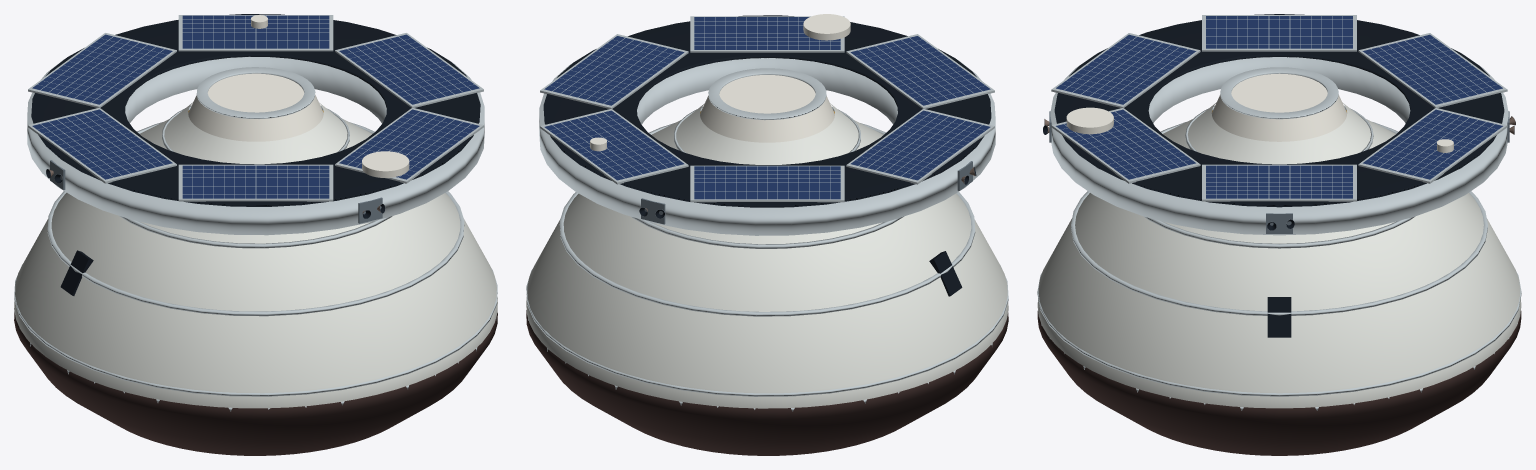
File: msl_ship.glb
3 views of the same model, side by side, from view 1: azimuth 30°, elevation 25°; view 2: azimuth 150°, elevation 25°; view 3: azimuth 270°, elevation 25° (orthographic).
Visible parts, largest first — view 1: mars_backshell.mesh_Pale_thermal_blanket, mars_cruise_stage.mesh_Satin_aluminum, mars_heatshield.mesh_Ablative_thermal_protection, mars_cruise_stage.mesh_Shadowed_interior, mars_backshell.mesh_Satin_aluminum, mars_backshell.parachute_cover.mesh_Warm_white_enamel, mars_cruise_stage.solar_panel_06.mesh_Indigo_solar_cells, mars_cruise_stage.solar_panel_02.mesh_Indigo_solar_cells, mars_cruise_stage.solar_panel_04.mesh_Indigo_solar_cells, mars_cruise_stage.solar_panel_05.mesh_Indigo_solar_cells, mars_cruise_stage.solar_panel_03.mesh_Indigo_solar_cells, mars_cruise_stage.solar_panel_01.mesh_Indigo_solar_cells (+9 smaller); view 2: mars_backshell.mesh_Pale_thermal_blanket, mars_cruise_stage.mesh_Satin_aluminum, mars_heatshield.mesh_Ablative_thermal_protection, mars_cruise_stage.mesh_Shadowed_interior, mars_backshell.mesh_Satin_aluminum, mars_backshell.parachute_cover.mesh_Warm_white_enamel, mars_cruise_stage.solar_panel_04.mesh_Indigo_solar_cells, mars_cruise_stage.solar_panel_02.mesh_Indigo_solar_cells, mars_cruise_stage.solar_panel_06.mesh_Indigo_solar_cells, mars_cruise_stage.solar_panel_05.mesh_Indigo_solar_cells, mars_cruise_stage.solar_panel_03.mesh_Indigo_solar_cells, mars_cruise_stage.solar_panel_01.mesh_Indigo_solar_cells (+9 smaller); view 3: mars_backshell.mesh_Pale_thermal_blanket, mars_cruise_stage.mesh_Satin_aluminum, mars_heatshield.mesh_Ablative_thermal_protection, mars_cruise_stage.mesh_Shadowed_interior, mars_backshell.mesh_Satin_aluminum, mars_backshell.parachute_cover.mesh_Warm_white_enamel, mars_cruise_stage.solar_panel_02.mesh_Indigo_solar_cells, mars_cruise_stage.solar_panel_04.mesh_Indigo_solar_cells, mars_cruise_stage.solar_panel_06.mesh_Indigo_solar_cells, mars_cruise_stage.solar_panel_05.mesh_Indigo_solar_cells, mars_cruise_stage.solar_panel_03.mesh_Indigo_solar_cells, mars_cruise_stage.solar_panel_01.mesh_Indigo_solar_cells (+10 smaller).
Boxes of the visible parts, left/top/right/bottom form: mars_backshell.mesh_Pale_thermal_blanket: left=14, top=102, right=497, bottom=408; mars_cruise_stage.mesh_Satin_aluminum: left=27, top=56, right=484, bottom=235; mars_heatshield.mesh_Ablative_thermal_protection: left=14, top=312, right=497, bottom=455; mars_cruise_stage.mesh_Shadowed_interior: left=31, top=14, right=480, bottom=206; mars_backshell.mesh_Satin_aluminum: left=14, top=105, right=497, bottom=396; mars_backshell.parachute_cover.mesh_Warm_white_enamel: left=188, top=73, right=323, bottom=141; mars_cruise_stage.solar_panel_06.mesh_Indigo_solar_cells: left=182, top=165, right=329, bottom=198; mars_cruise_stage.solar_panel_02.mesh_Indigo_solar_cells: left=339, top=34, right=479, bottom=104; mars_cruise_stage.solar_panel_04.mesh_Indigo_solar_cells: left=32, top=34, right=172, bottom=104; mars_cruise_stage.solar_panel_05.mesh_Indigo_solar_cells: left=32, top=109, right=172, bottom=179; mars_cruise_stage.solar_panel_03.mesh_Indigo_solar_cells: left=182, top=15, right=329, bottom=48; mars_cruise_stage.solar_panel_01.mesh_Indigo_solar_cells: left=339, top=109, right=479, bottom=179; mars_backshell.mesh_Pale_thermal_blanket: left=526, top=103, right=1008, bottom=408; mars_cruise_stage.mesh_Satin_aluminum: left=539, top=58, right=995, bottom=235; mars_heatshield.mesh_Ablative_thermal_protection: left=526, top=310, right=1008, bottom=455; mars_cruise_stage.mesh_Shadowed_interior: left=543, top=15, right=991, bottom=207; mars_backshell.mesh_Satin_aluminum: left=526, top=107, right=1008, bottom=396; mars_backshell.parachute_cover.mesh_Warm_white_enamel: left=700, top=75, right=834, bottom=142; mars_cruise_stage.solar_panel_04.mesh_Indigo_solar_cells: left=694, top=166, right=840, bottom=199; mars_cruise_stage.solar_panel_02.mesh_Indigo_solar_cells: left=544, top=36, right=684, bottom=105; mars_cruise_stage.solar_panel_06.mesh_Indigo_solar_cells: left=850, top=36, right=990, bottom=105; mars_cruise_stage.solar_panel_05.mesh_Indigo_solar_cells: left=851, top=110, right=990, bottom=180; mars_cruise_stage.solar_panel_03.mesh_Indigo_solar_cells: left=544, top=110, right=683, bottom=180; mars_cruise_stage.solar_panel_01.mesh_Indigo_solar_cells: left=694, top=17, right=840, bottom=49; mars_backshell.mesh_Pale_thermal_blanket: left=1037, top=102, right=1521, bottom=408; mars_cruise_stage.mesh_Satin_aluminum: left=1050, top=56, right=1508, bottom=235; mars_heatshield.mesh_Ablative_thermal_protection: left=1037, top=311, right=1521, bottom=455; mars_cruise_stage.mesh_Shadowed_interior: left=1054, top=14, right=1504, bottom=207; mars_backshell.mesh_Satin_aluminum: left=1037, top=106, right=1521, bottom=396; mars_backshell.parachute_cover.mesh_Warm_white_enamel: left=1211, top=73, right=1347, bottom=141; mars_cruise_stage.solar_panel_02.mesh_Indigo_solar_cells: left=1206, top=165, right=1352, bottom=198; mars_cruise_stage.solar_panel_04.mesh_Indigo_solar_cells: left=1362, top=34, right=1502, bottom=104; mars_cruise_stage.solar_panel_06.mesh_Indigo_solar_cells: left=1056, top=34, right=1196, bottom=104; mars_cruise_stage.solar_panel_05.mesh_Indigo_solar_cells: left=1206, top=16, right=1352, bottom=48; mars_cruise_stage.solar_panel_03.mesh_Indigo_solar_cells: left=1363, top=109, right=1502, bottom=179; mars_cruise_stage.solar_panel_01.mesh_Indigo_solar_cells: left=1056, top=109, right=1195, bottom=179.
Bounding box in the file's own units: 4.5 × 3.26 × 4.5.
